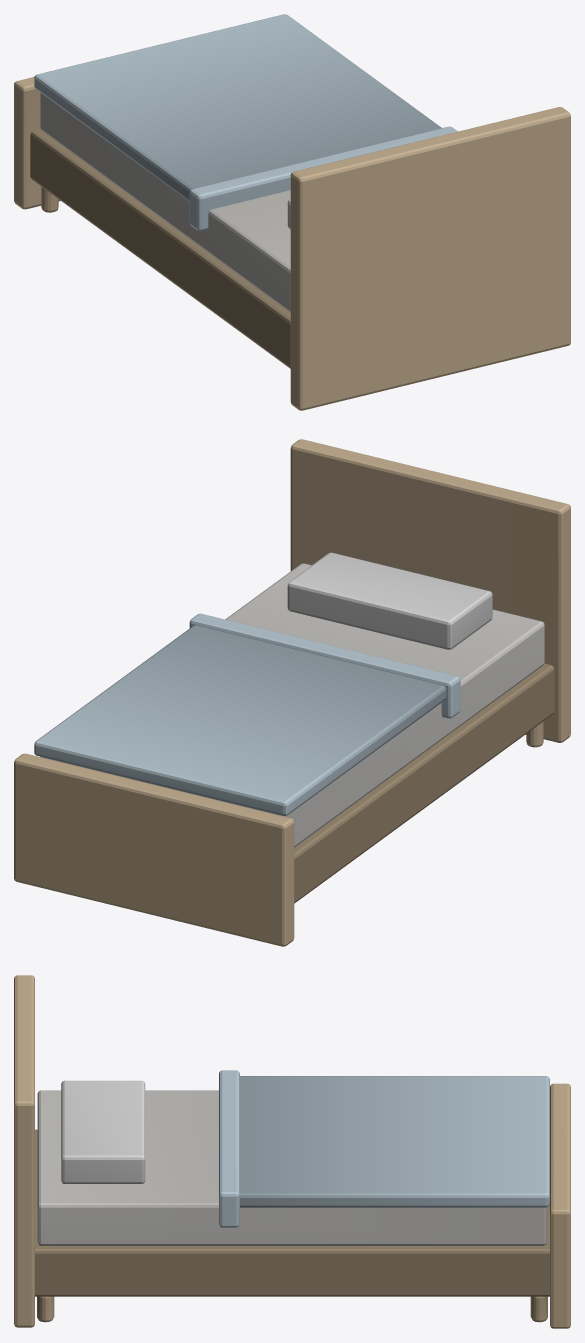
The model's file is furn_bed__sky.glb.
The picture shows the model from 3 angles, top to bottom: view 1: azimuth 30°, elevation 25°; view 2: azimuth 150°, elevation 25°; view 3: azimuth 270°, elevation 25°; orthographic projection. The views are drawn at different scales.
Size of the model in its own units: 1.16 by 0.955 by 2.12.
